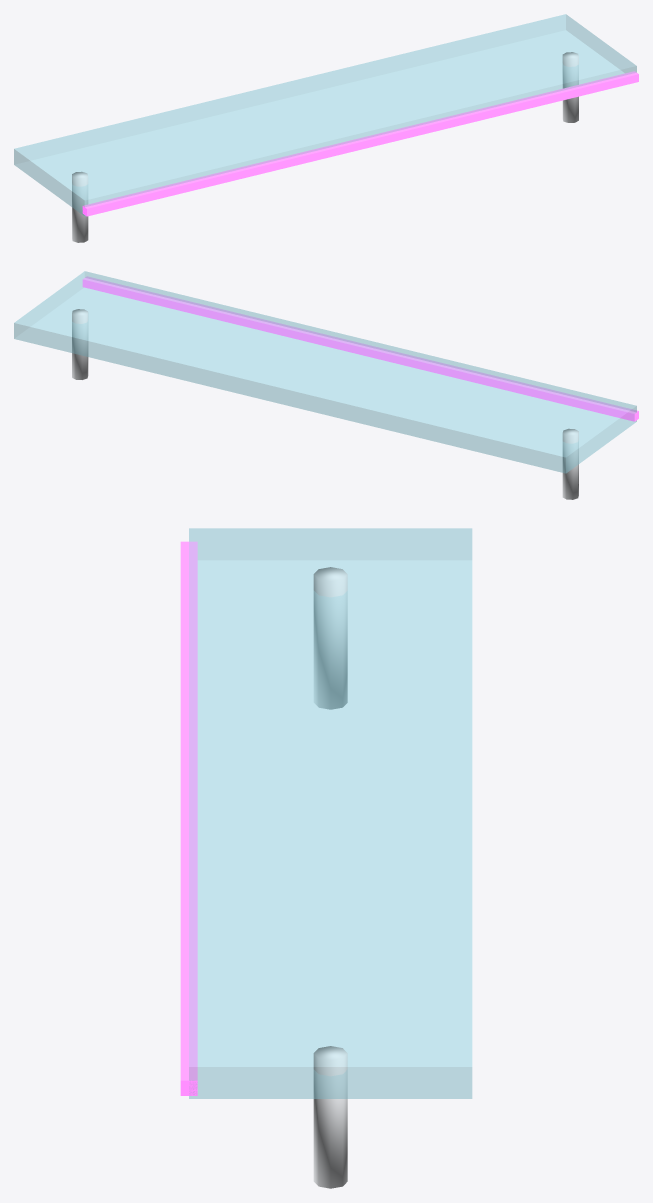
Rendered from wall_shelf_glass_shelf.glb.
The picture shows the model from 3 angles, top to bottom: view 1: azimuth 30°, elevation 25°; view 2: azimuth 150°, elevation 25°; view 3: azimuth 270°, elevation 25°; orthographic projection. The views are drawn at different scales.
Parts seen in each view (by area): view 1: GD_wall_shelf_glass_shelf__m0, GD_wall_shelf_glass_shelf__m2, GD_wall_shelf_glass_shelf__m1; view 2: GD_wall_shelf_glass_shelf__m0, GD_wall_shelf_glass_shelf__m2, GD_wall_shelf_glass_shelf__m1; view 3: GD_wall_shelf_glass_shelf__m0, GD_wall_shelf_glass_shelf__m2, GD_wall_shelf_glass_shelf__m1.
Part boxes in pixels (<box>): GD_wall_shelf_glass_shelf__m0: <box>14,14,636,216</box>; GD_wall_shelf_glass_shelf__m2: <box>82,71,638,216</box>; GD_wall_shelf_glass_shelf__m1: <box>72,52,578,242</box>; GD_wall_shelf_glass_shelf__m0: <box>14,271,636,473</box>; GD_wall_shelf_glass_shelf__m2: <box>82,276,638,421</box>; GD_wall_shelf_glass_shelf__m1: <box>72,309,578,499</box>; GD_wall_shelf_glass_shelf__m0: <box>189,528,472,1098</box>; GD_wall_shelf_glass_shelf__m2: <box>180,541,197,1095</box>; GD_wall_shelf_glass_shelf__m1: <box>313,567,347,1188</box>.
Size of the model in its own units: 0.9 by 0.1125 by 0.206.
